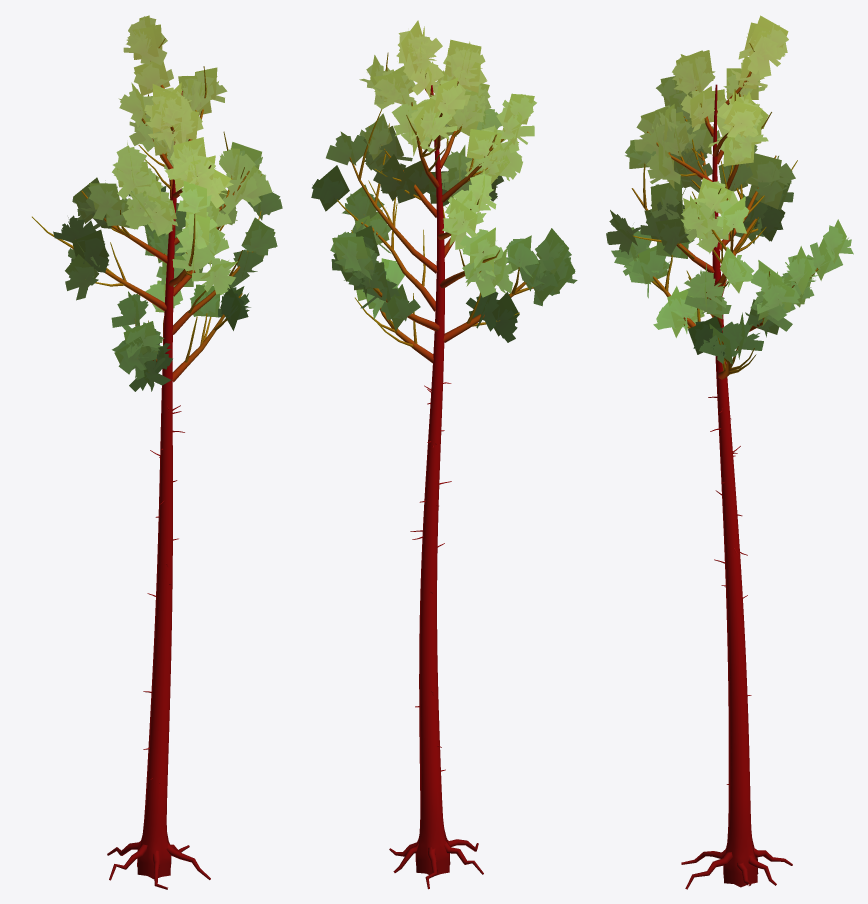
The model's file is pine_a.glb.
The picture shows the model from 3 angles, left to right: view 1: azimuth 30°, elevation 25°; view 2: azimuth 150°, elevation 25°; view 3: azimuth 270°, elevation 25°; orthographic projection. The views are drawn at different scales.
Parts seen in each view (by area): view 1: LOD0; view 2: LOD0; view 3: LOD0.
Boxes of the visible parts, <box> form: LOD0: <box>32,15,282,889</box>; LOD0: <box>311,20,577,889</box>; LOD0: <box>606,15,853,889</box>.
Size of what is drawn, in the model's own units: 7.61 by 26.65 by 6.89.
